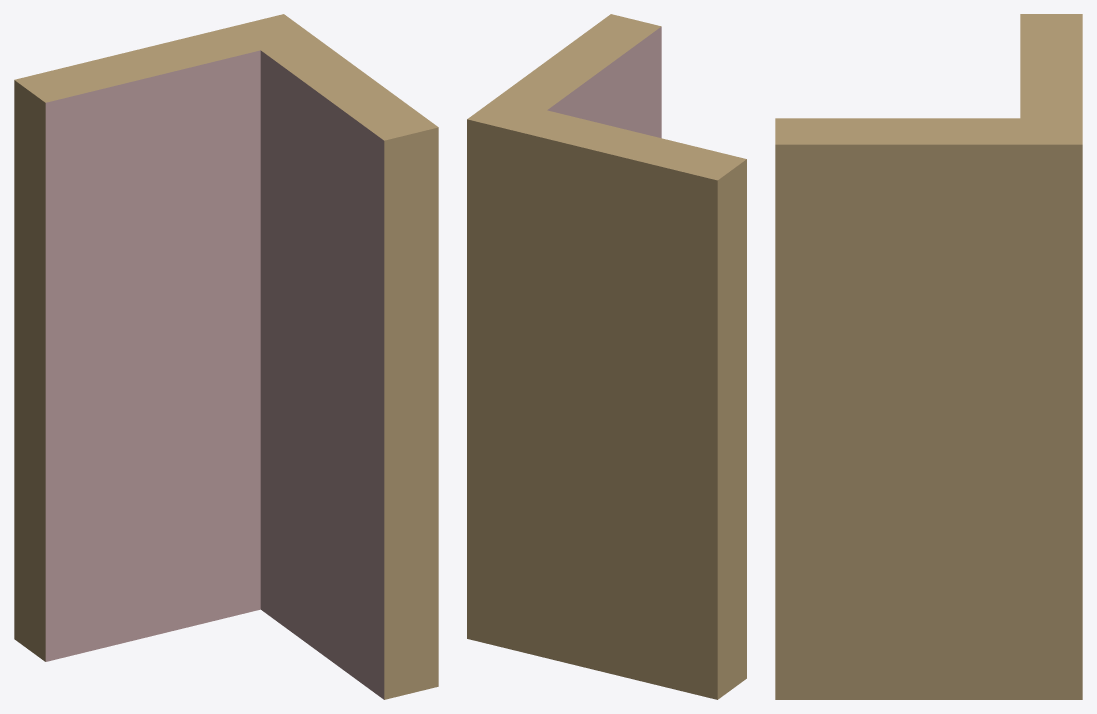
Rendered from house_corner_05_10_05.fbx.
3 views of the same model, side by side, from view 1: azimuth 30°, elevation 25°; view 2: azimuth 150°, elevation 25°; view 3: azimuth 270°, elevation 25° (orthographic). The views are drawn at different scales.
Visible parts, largest first — view 1: house_corner_05_10_05; view 2: house_corner_05_10_05; view 3: house_corner_05_10_05.
Part boxes in pixels (x1=…): house_corner_05_10_05: x1=14, y1=14, x2=438, y2=699; house_corner_05_10_05: x1=467, y1=14, x2=746, y2=699; house_corner_05_10_05: x1=775, y1=14, x2=1082, y2=699.
Size of the model in its own units: 5.03 by 9.96 by 5.
